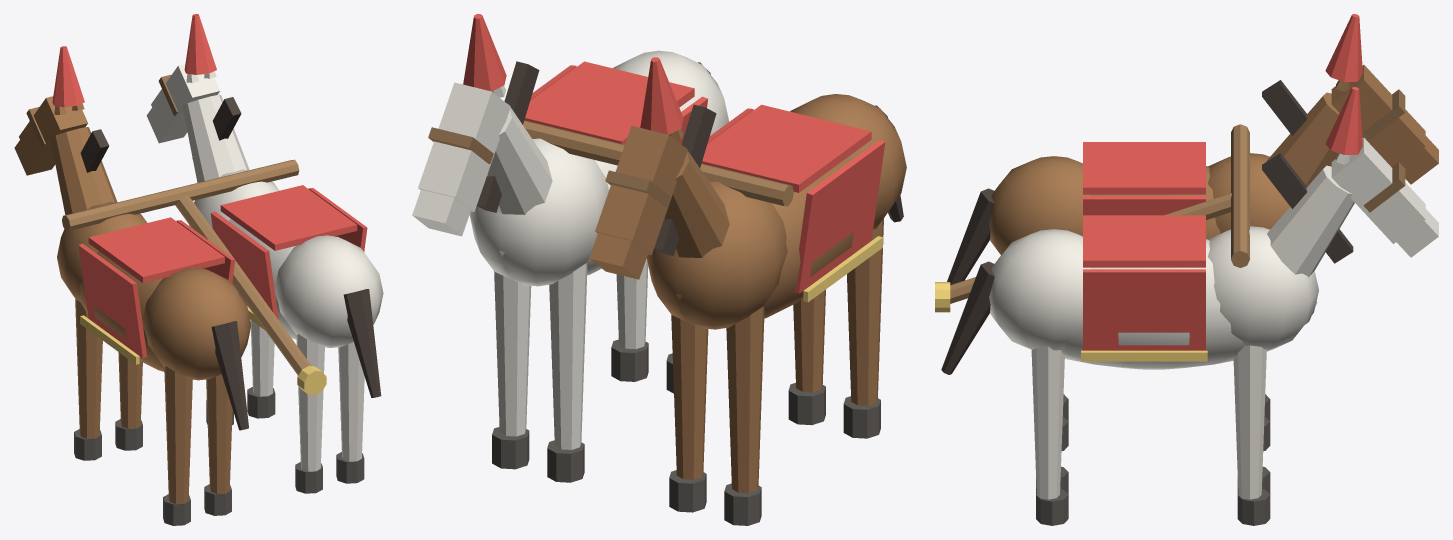
File: horses.glb
3 renders of one model, left to right at view 1: azimuth 30°, elevation 25°; view 2: azimuth 150°, elevation 25°; view 3: azimuth 270°, elevation 25°, orthographic. The views are drawn at different scales.
Visible parts, largest first — view 1: HorseL, HorseR, Yoke; view 2: HorseL, HorseR, Yoke; view 3: HorseR, HorseL, Yoke.
Boxes of the visible parts, x1,y1,x2,y2 form: HorseL: (14, 46, 251, 525); HorseR: (146, 14, 383, 493); Yoke: (62, 159, 326, 395); HorseL: (589, 57, 906, 525); HorseR: (412, 14, 729, 482); Yoke: (523, 120, 793, 206); HorseR: (941, 87, 1438, 525); HorseL: (947, 14, 1438, 451); Yoke: (935, 124, 1249, 312).
Bounding box in the file's own units: 1.6 × 2.41 × 2.62.
